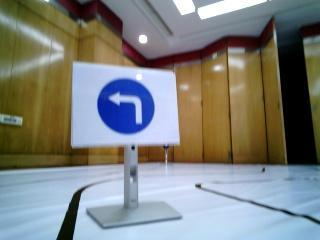left: (84, 64, 176, 147)
